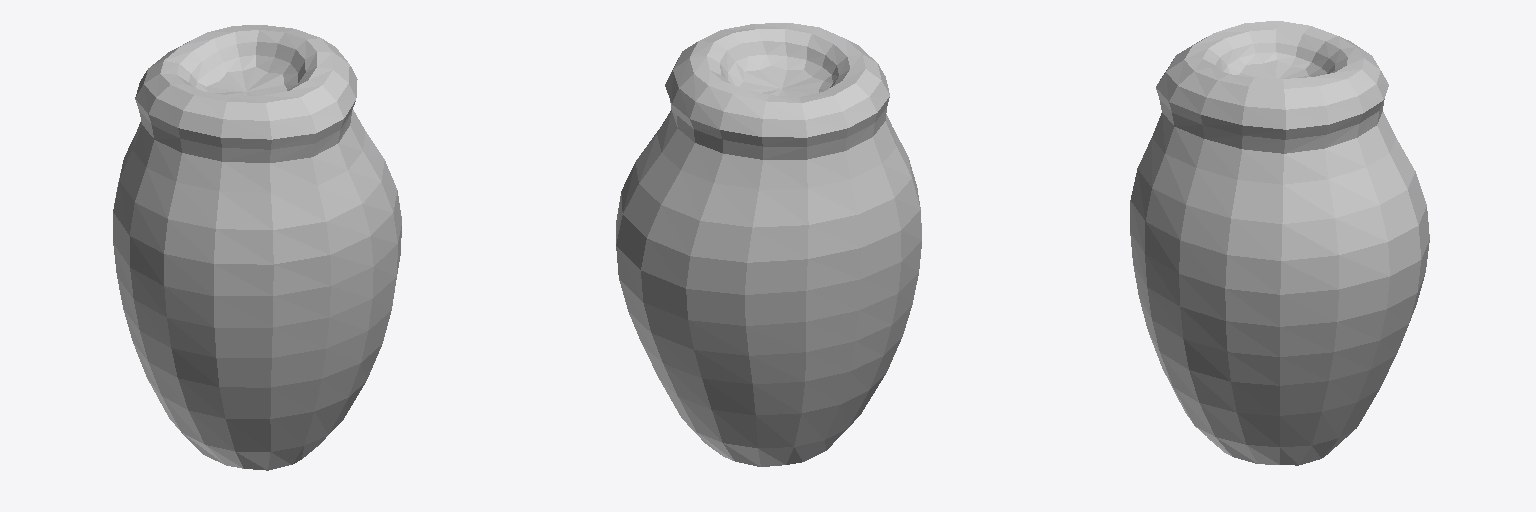
Rendered from Sponge_B_02_LOD0.obj.
The picture shows the model from 3 angles: view 1: azimuth 30°, elevation 25°; view 2: azimuth 150°, elevation 25°; view 3: azimuth 270°, elevation 25°; orthographic projection.
Parts seen in each view (by area): view 1: Sponge_B_02_LOD0_Cylinder.330; view 2: Sponge_B_02_LOD0_Cylinder.330; view 3: Sponge_B_02_LOD0_Cylinder.330.
Part boxes in pixels (bbox=[...]): Sponge_B_02_LOD0_Cylinder.330: bbox=[113, 25, 401, 470]; Sponge_B_02_LOD0_Cylinder.330: bbox=[616, 23, 921, 466]; Sponge_B_02_LOD0_Cylinder.330: bbox=[1130, 21, 1429, 465].
Bounding box in the file's own units: 2.39 × 3.56 × 2.39.